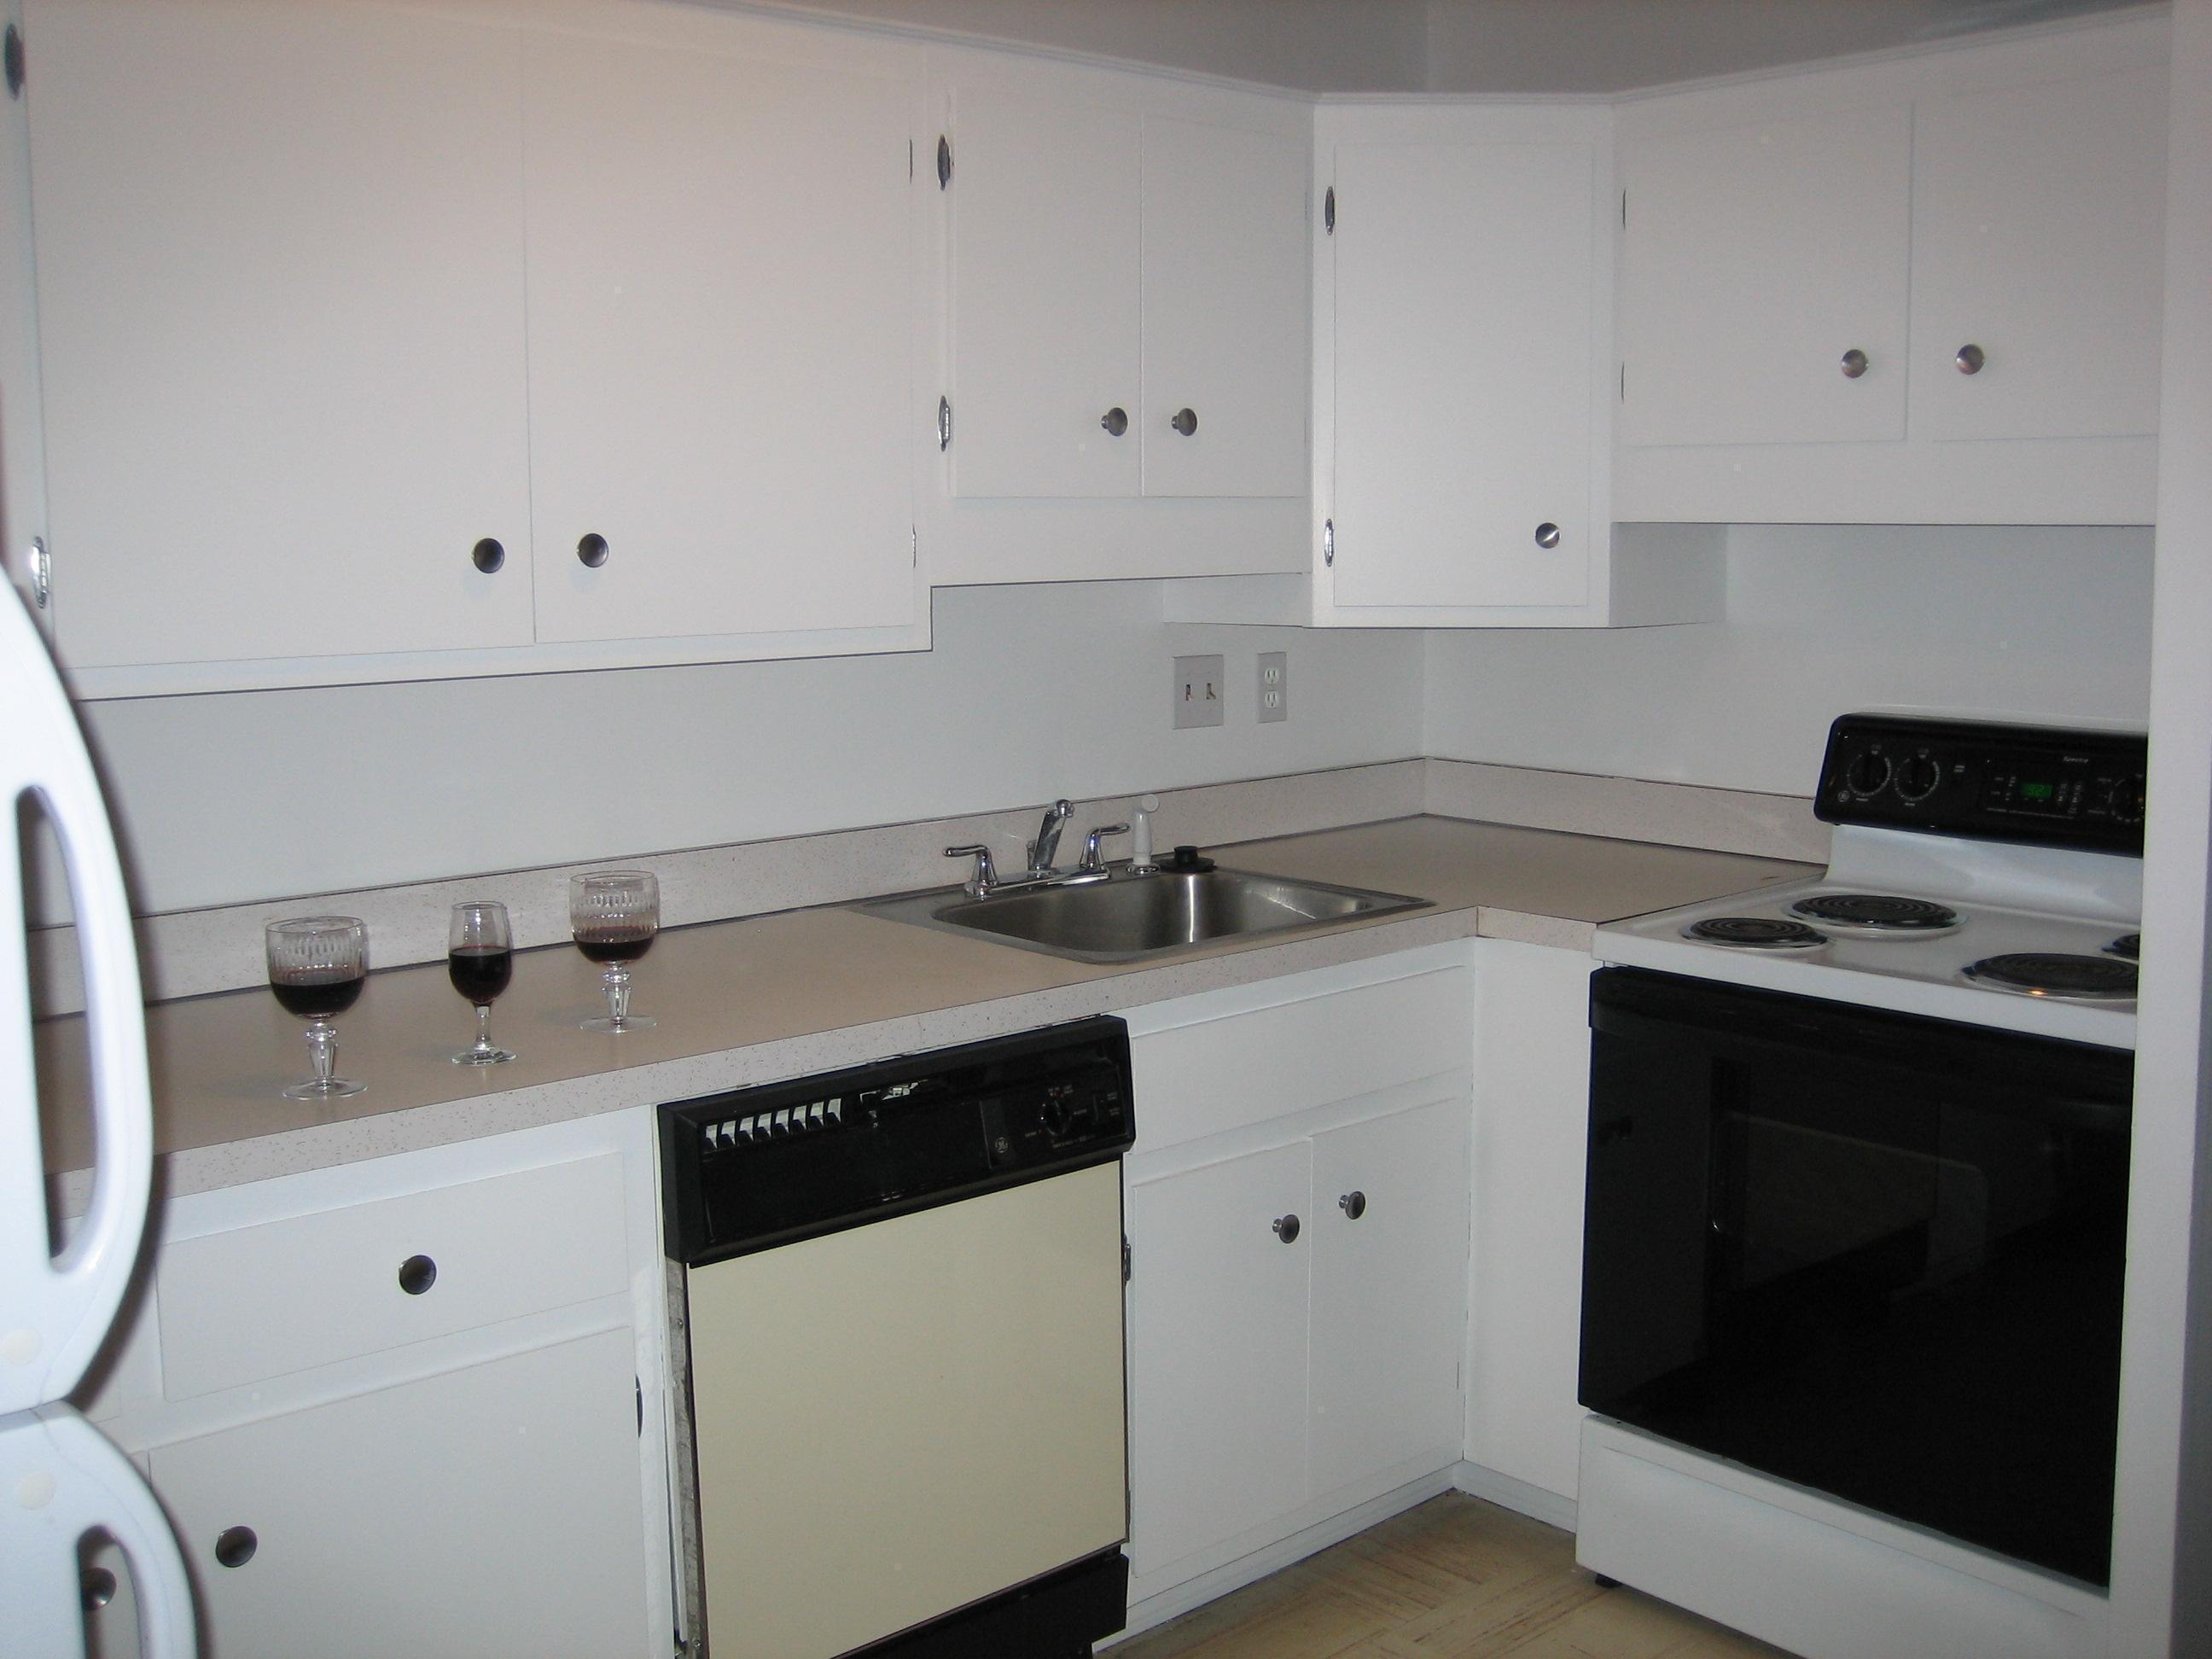Electrodomestico: (1602, 746, 2182, 1643), (685, 1046, 1136, 1652)
Lavaplatos: (913, 786, 1451, 960)
